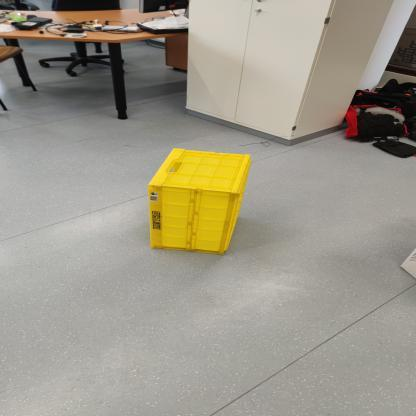-: (108, 135, 288, 268)
